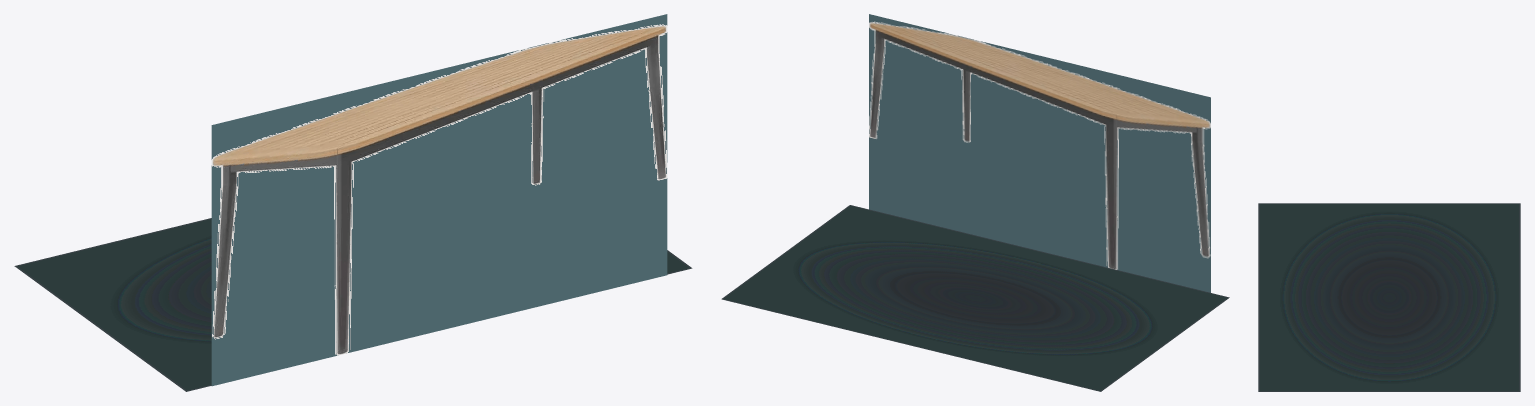
The model's file is garden-tables-charlie-teak-dining-table.glb.
3 renders of one model, left to right at view 1: azimuth 30°, elevation 25°; view 2: azimuth 150°, elevation 25°; view 3: azimuth 270°, elevation 25°, orthographic. The views are drawn at different scales.
Parts seen in each view (by area): view 1: Foto garden-tables-charlie-teak-dining-table, Grundflaeche; view 2: Foto garden-tables-charlie-teak-dining-table, Grundflaeche; view 3: Grundflaeche.
Part boxes in pixels (x1,y1,x2,y2): Foto garden-tables-charlie-teak-dining-table: (211,14,667,386); Grundflaeche: (14,218,692,391); Foto garden-tables-charlie-teak-dining-table: (869,14,1210,292); Grundflaeche: (721,205,1229,391); Grundflaeche: (1258,203,1520,391).
Bounding box in the file's own units: 1.7 × 0.8379 × 1.
2 materials, 2 textured.
